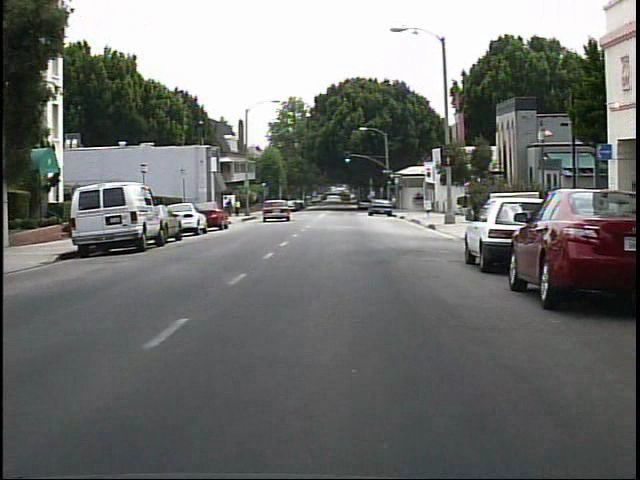person: (223, 197, 236, 220), (234, 198, 246, 221)
